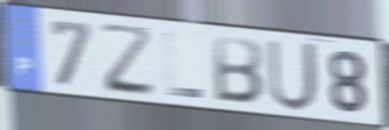7: (48, 16, 94, 90)
8: (327, 48, 371, 115)
B: (211, 33, 265, 107)
L: (161, 30, 205, 101)
U: (265, 37, 321, 114)
Z: (97, 22, 158, 99)
